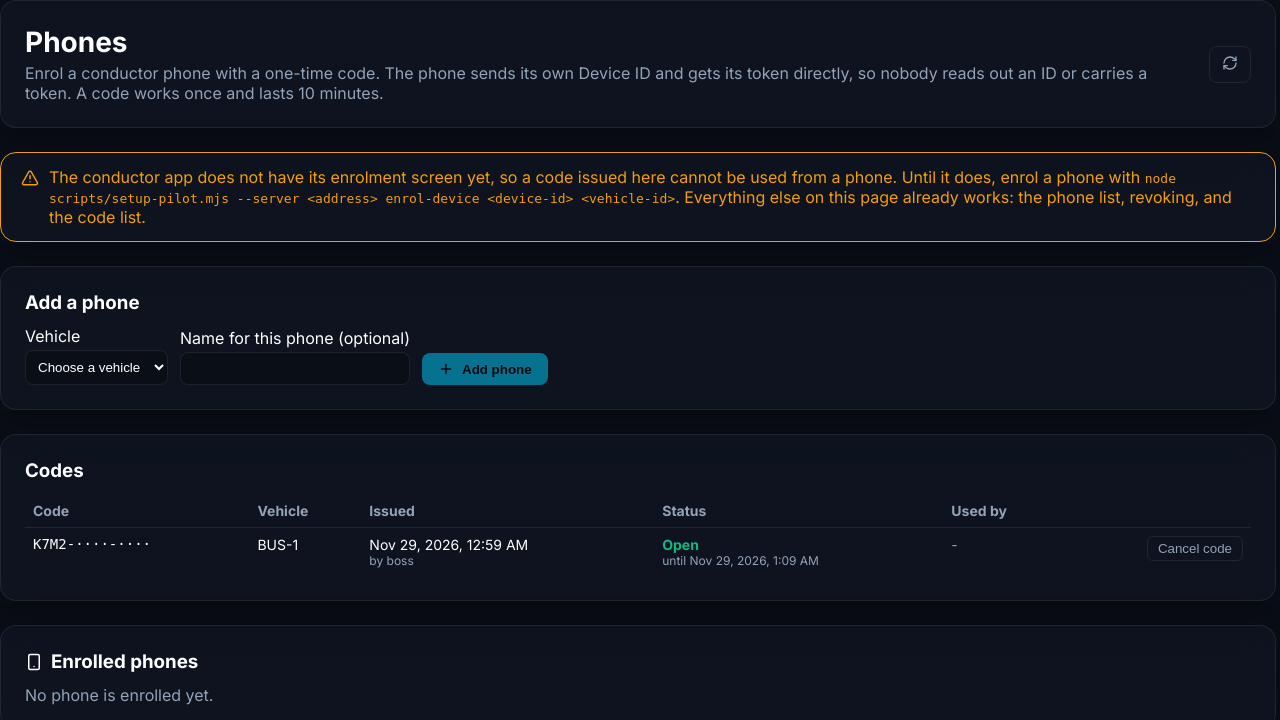
Test: Phones: cancelling a code from the list › cancels an open code and reads the list again
Click the button "Cancel code". click: (1195, 548)
box: [1147,536,1243,561]
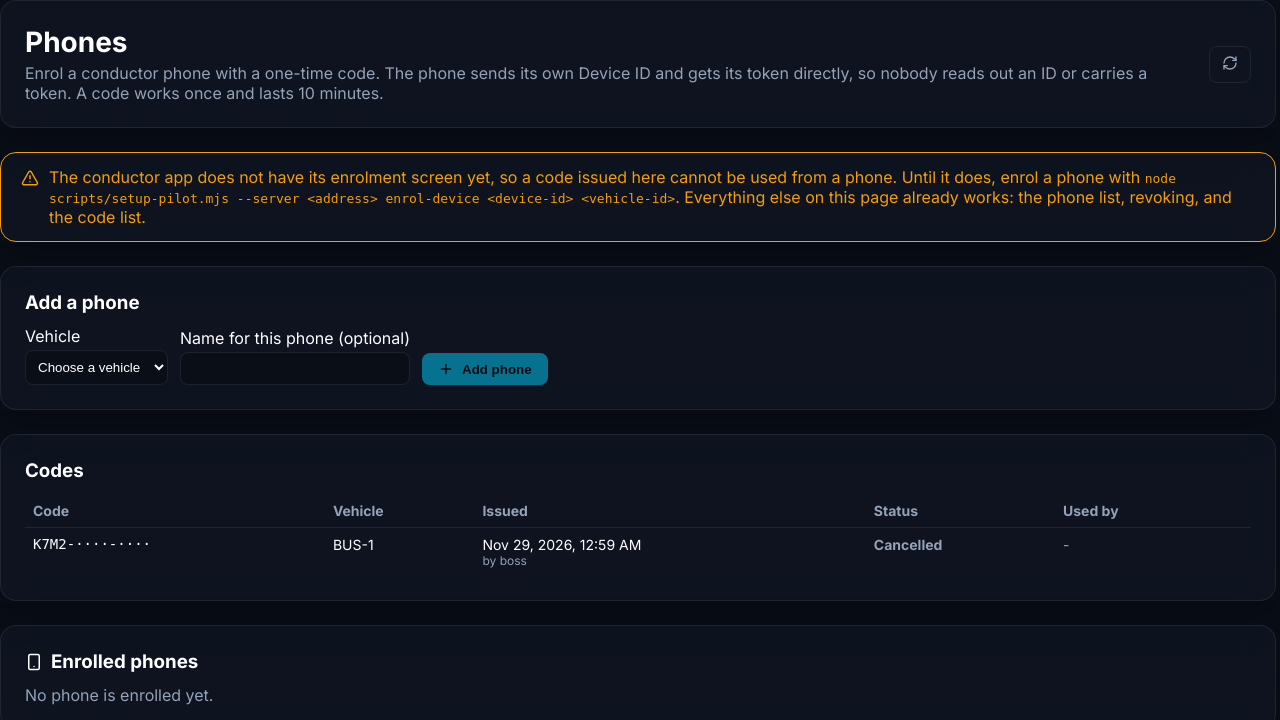
expect the text "Cancelled" is shown: met, box [866,528,1055,576]
expect the button "Cancel code" is gone: met
